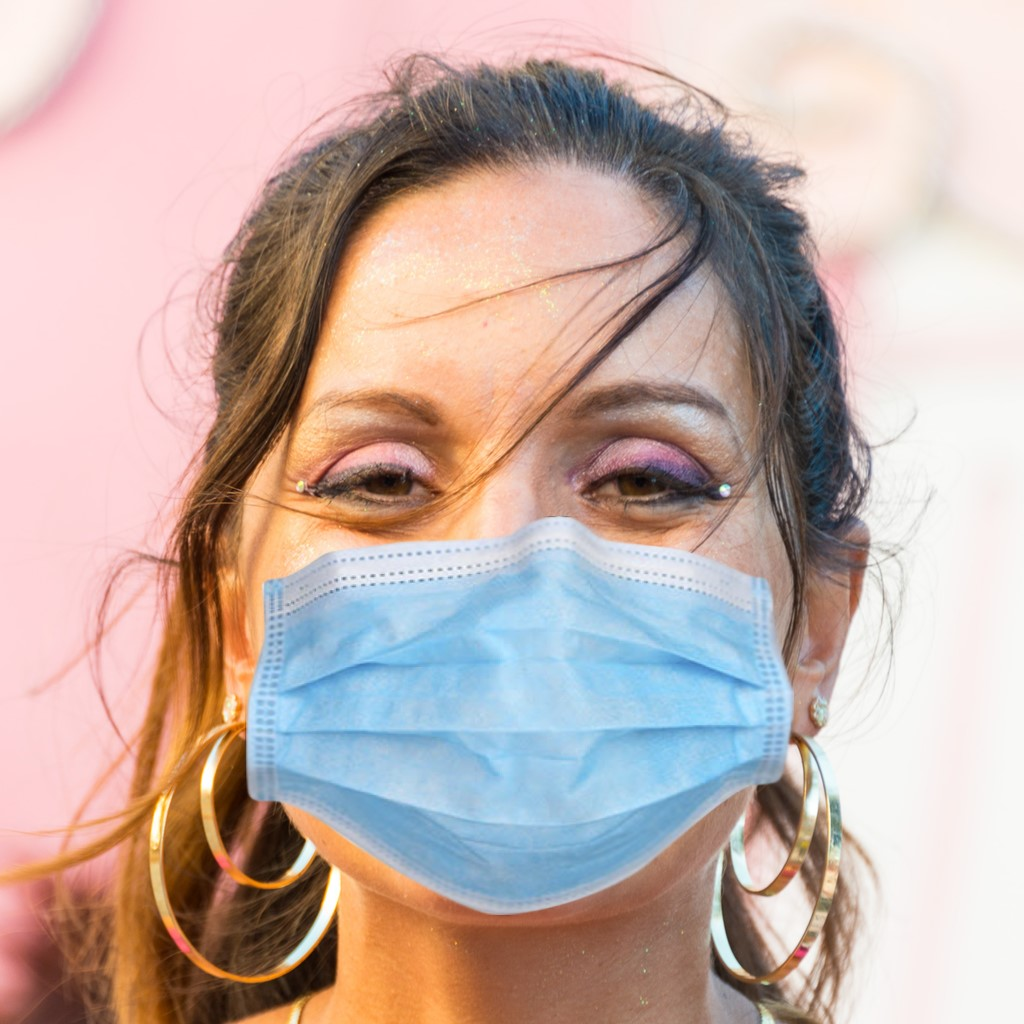con_mascara: (217, 146, 810, 931)
